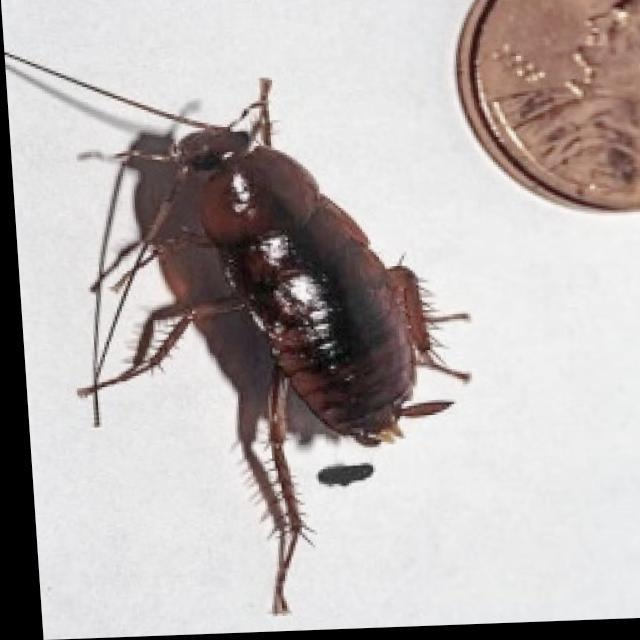cockroach: (71, 93, 475, 617)
